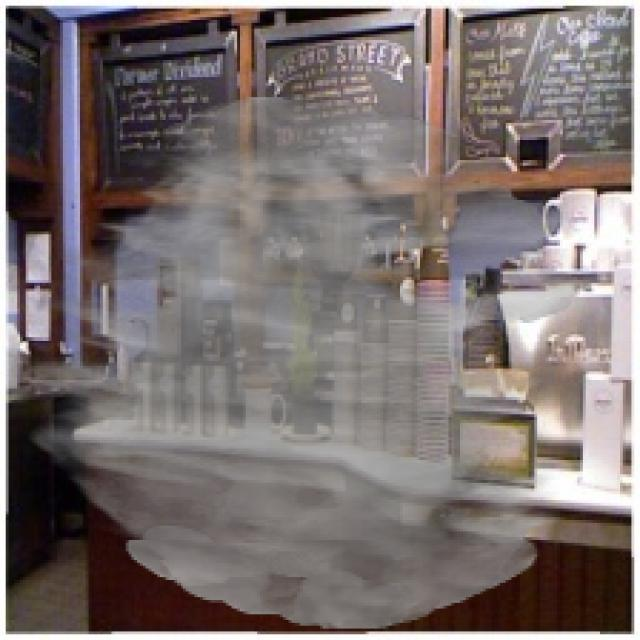smoke: (23, 94, 583, 629)
